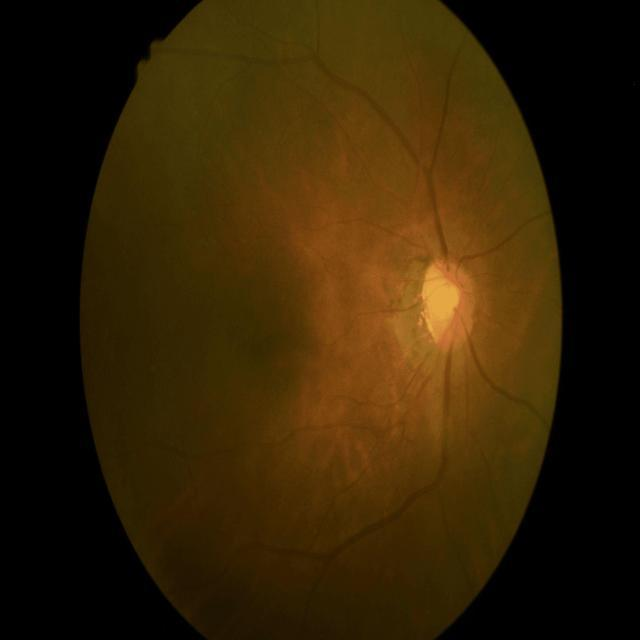cup: (427, 270, 463, 340)
disk: (420, 258, 476, 349)
